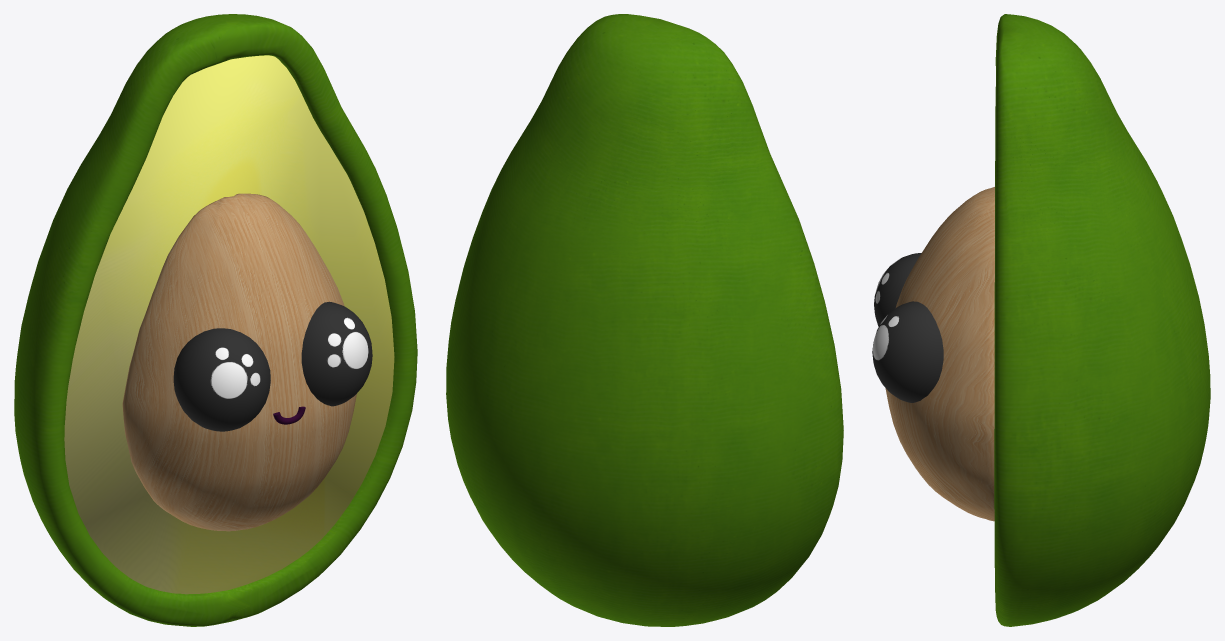
The model's file is Palta.glb.
3 renders of one model, left to right at view 1: azimuth 30°, elevation 25°; view 2: azimuth 150°, elevation 25°; view 3: azimuth 270°, elevation 25°, orthographic. The views are drawn at different scales.
Parts seen in each view (by area): view 1: palta; view 2: palta; view 3: palta.
Part boxes in pixels (bbox=[...]): palta: bbox=[14, 14, 417, 626]; palta: bbox=[446, 14, 843, 626]; palta: bbox=[872, 14, 1210, 626].
Bounding box in the file's own units: 1.2 × 1.81 × 0.9612.
Materials: 5 (5 with a texture image).
